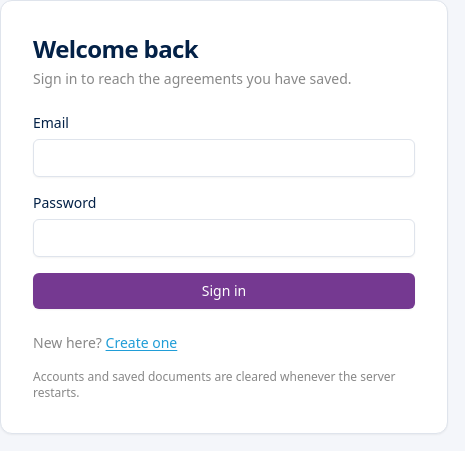
it: CredentialsForm › will not submit twice while the first is in flight
In the field labelled "Email": x=224, y=158 [33, 139, 415, 177], type "ada@example.com"
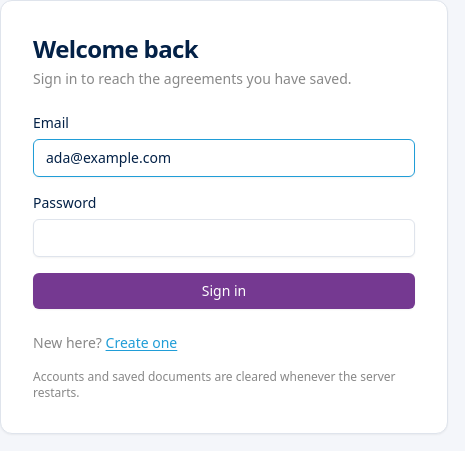
In the password field labelled "Password": x=224, y=238 [33, 219, 415, 257], type "correct-horse"
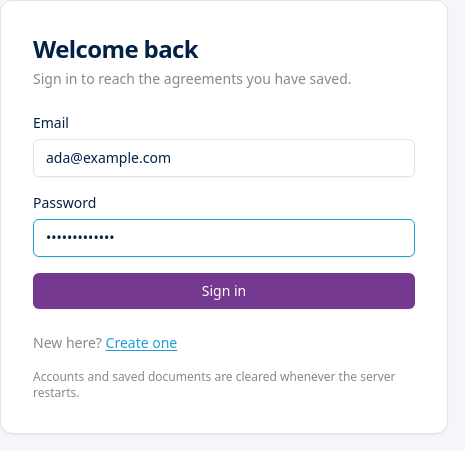
Click the button "Sign in": x=224, y=291 [33, 273, 415, 309]
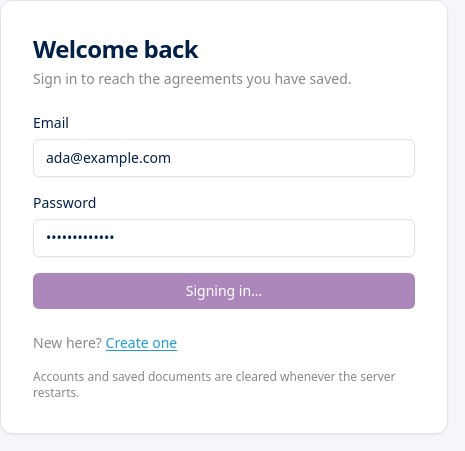
Expected: the button named "Sign in" is disabled, [33, 273, 415, 309]
